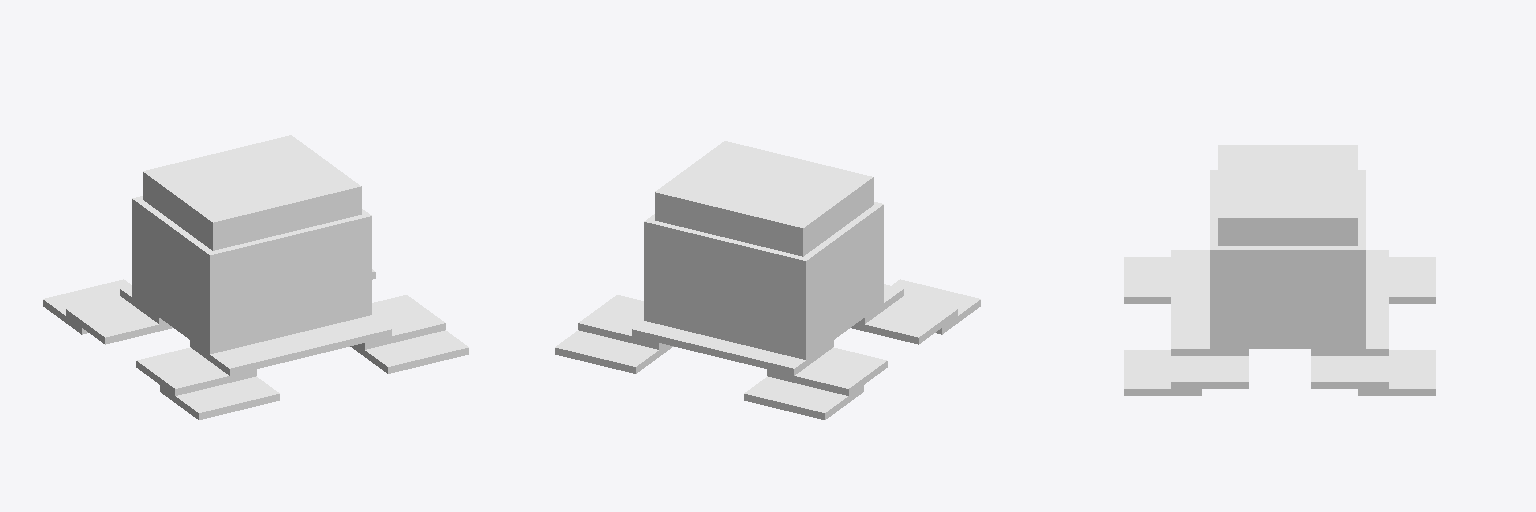
File: turel1.obj
3 renders of one model, left to right at view 1: azimuth 30°, elevation 25°; view 2: azimuth 150°, elevation 25°; view 3: azimuth 270°, elevation 25°, orthographic.
Visible parts, largest first — view 1: object 1; view 2: object 1; view 3: object 1.
Boxes of the visible parts, x1,y1,x2,y2 form: object 1: [43, 135, 468, 419]; object 1: [555, 141, 980, 419]; object 1: [1124, 145, 1435, 395].
Size of the model in its own units: 4 by 2.1 by 4.